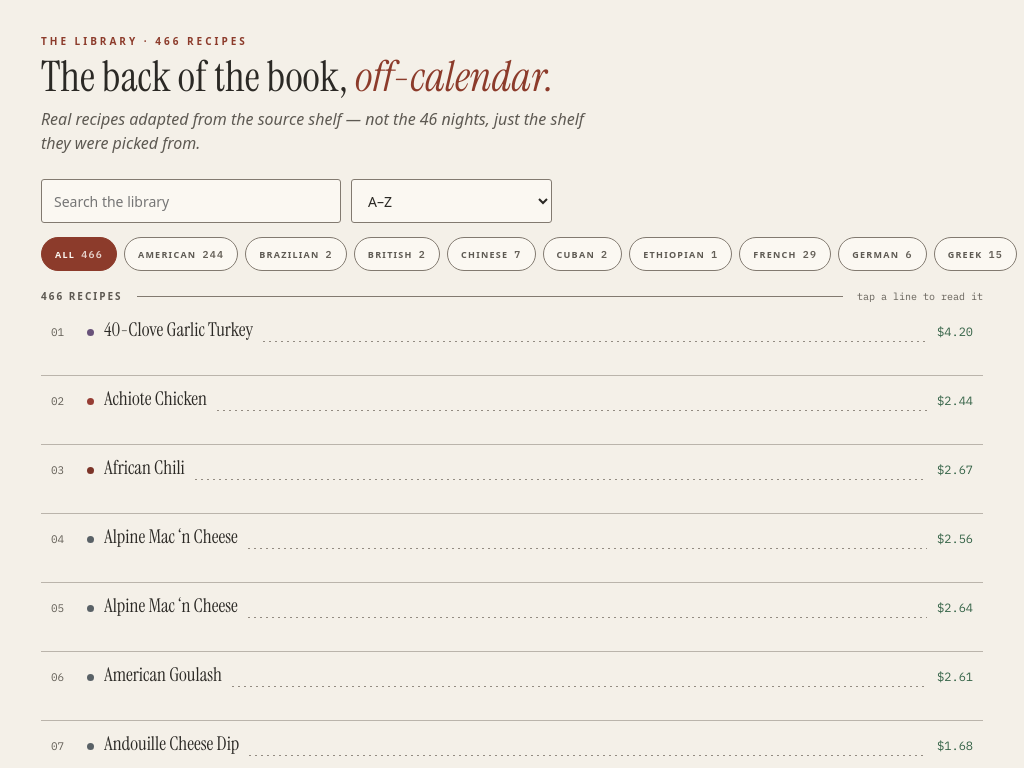
it: LibraryRoom renders › filters as you type, and says so when nothing matches
expect the text "40-Clove Garlic Turkey" is shown: met, box [104,319,253,342]
Type "zzzznotarecipe" into the search field labelled "Search the library".
click(191, 201); type("zzzznotarecipe")  # box [41,179,341,223]
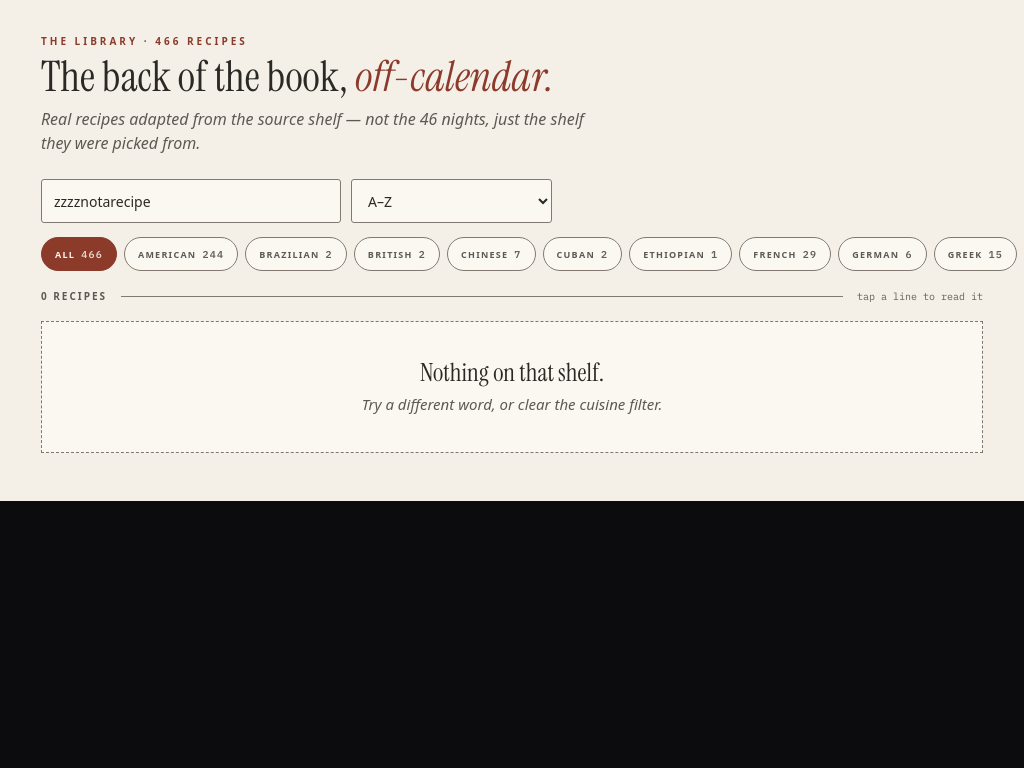
expect the text "Nothing on that shelf." is shown: met, box [420,356,604,389]
